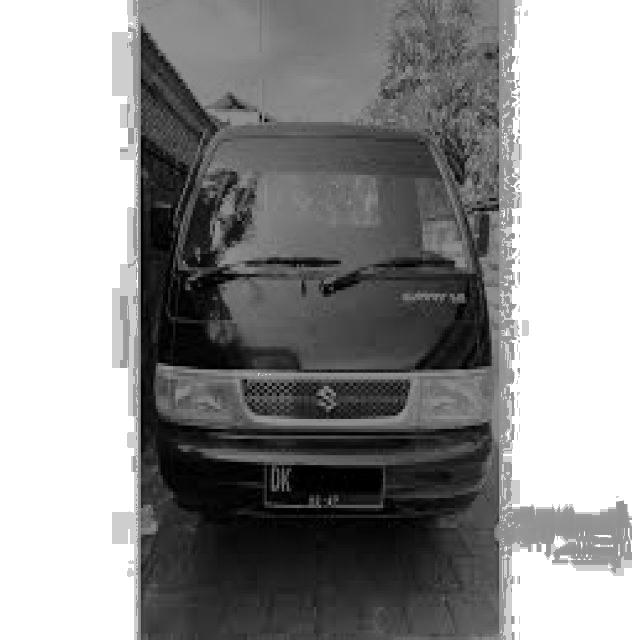Car: (147, 119, 496, 542)
